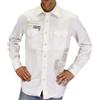abbigliamento_uomo: (10, 5, 91, 98)
